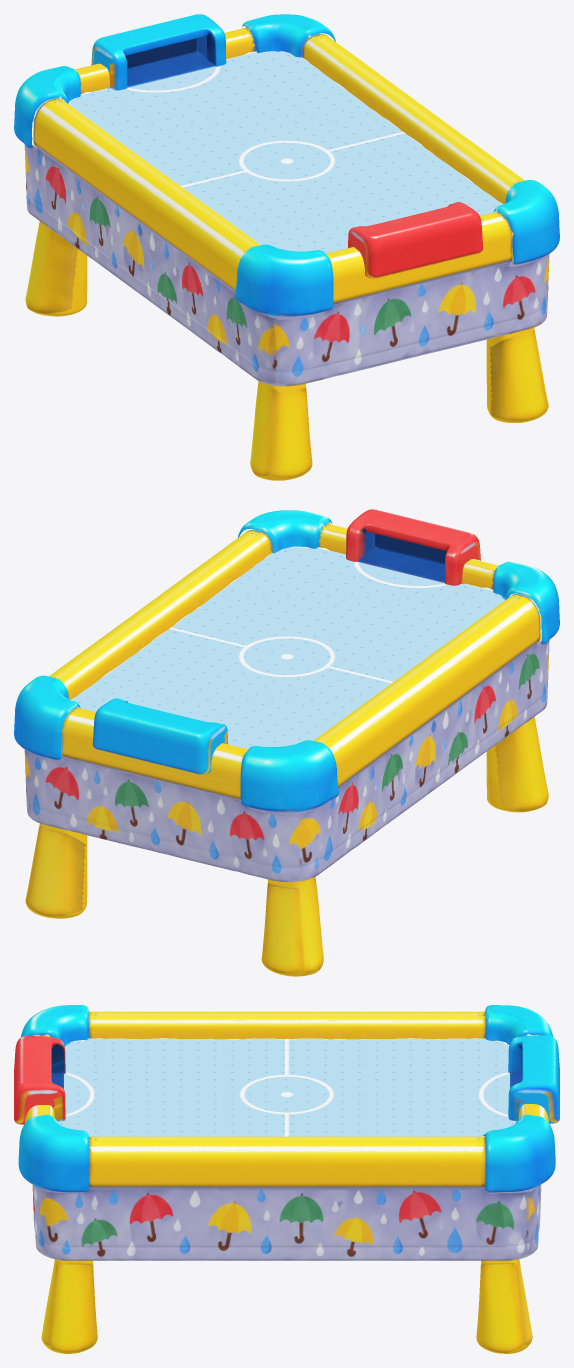
File: table-rainy.glb
3 renders of one model, top to bottom at view 1: azimuth 30°, elevation 25°; view 2: azimuth 150°, elevation 25°; view 3: azimuth 270°, elevation 25°, orthographic. The views are drawn at different scales.
Visible parts, largest first — view 1: table; view 2: table; view 3: table.
Part boxes in pixels (<box>): table: <box>14,14,559,480</box>; table: <box>14,509,559,976</box>; table: <box>14,1005,559,1353</box>.
Bounding box in the file's own units: 7.88 × 5.68 × 12.31.
Materials: 2 (2 with a texture image).
